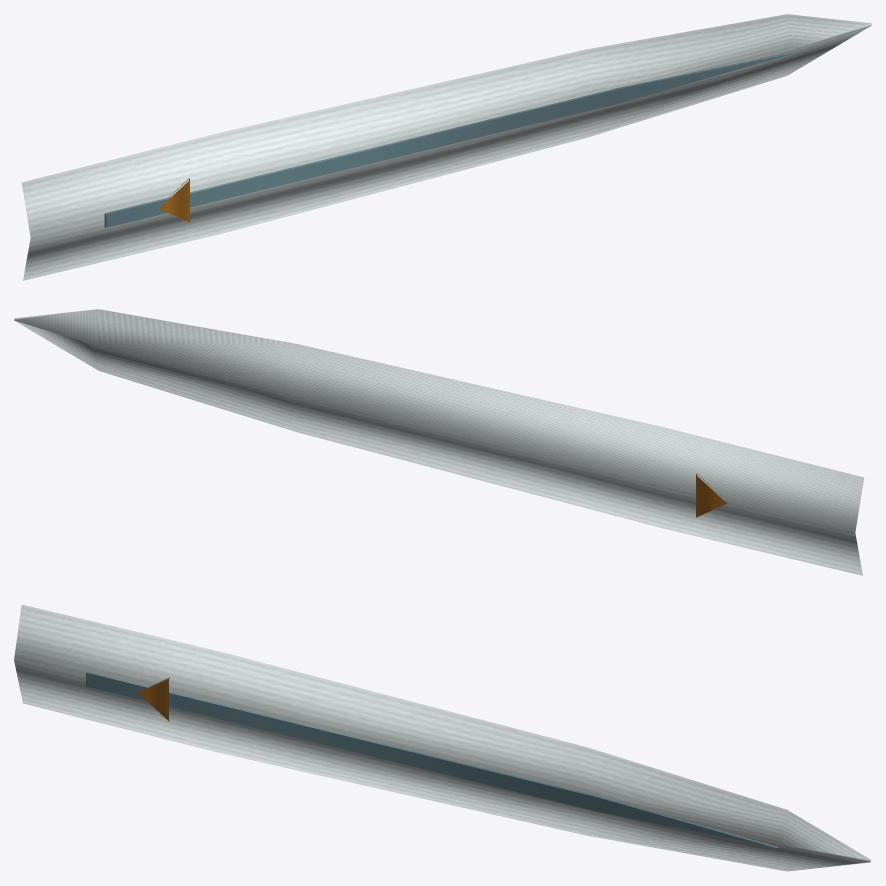
File: four_sword_blade.glb
3 renders of one model, top to bottom at view 1: azimuth 30°, elevation 25°; view 2: azimuth 150°, elevation 25°; view 3: azimuth 330°, elevation 25°, orthographic.
Parts seen in each view (by area): view 1: Folded white Four Sword blade, Cool central blade fuller, Small blade Triforce engraving; view 2: Folded white Four Sword blade, Small blade Triforce engraving; view 3: Folded white Four Sword blade, Cool central blade fuller, Small blade Triforce engraving.
Part boxes in pixels (x1,y1,x2,y2): Folded white Four Sword blade: (21, 14, 871, 280); Cool central blade fuller: (104, 51, 796, 227); Small blade Triforce engraving: (159, 178, 189, 222); Folded white Four Sword blade: (14, 309, 864, 575); Small blade Triforce engraving: (696, 473, 727, 517); Folded white Four Sword blade: (14, 604, 870, 871); Cool central blade fuller: (86, 671, 777, 847); Small blade Triforce engraving: (138, 677, 169, 721).
Bounding box in the file's own units: 2670 × 305 × 115.
3 materials, 3 textured.
